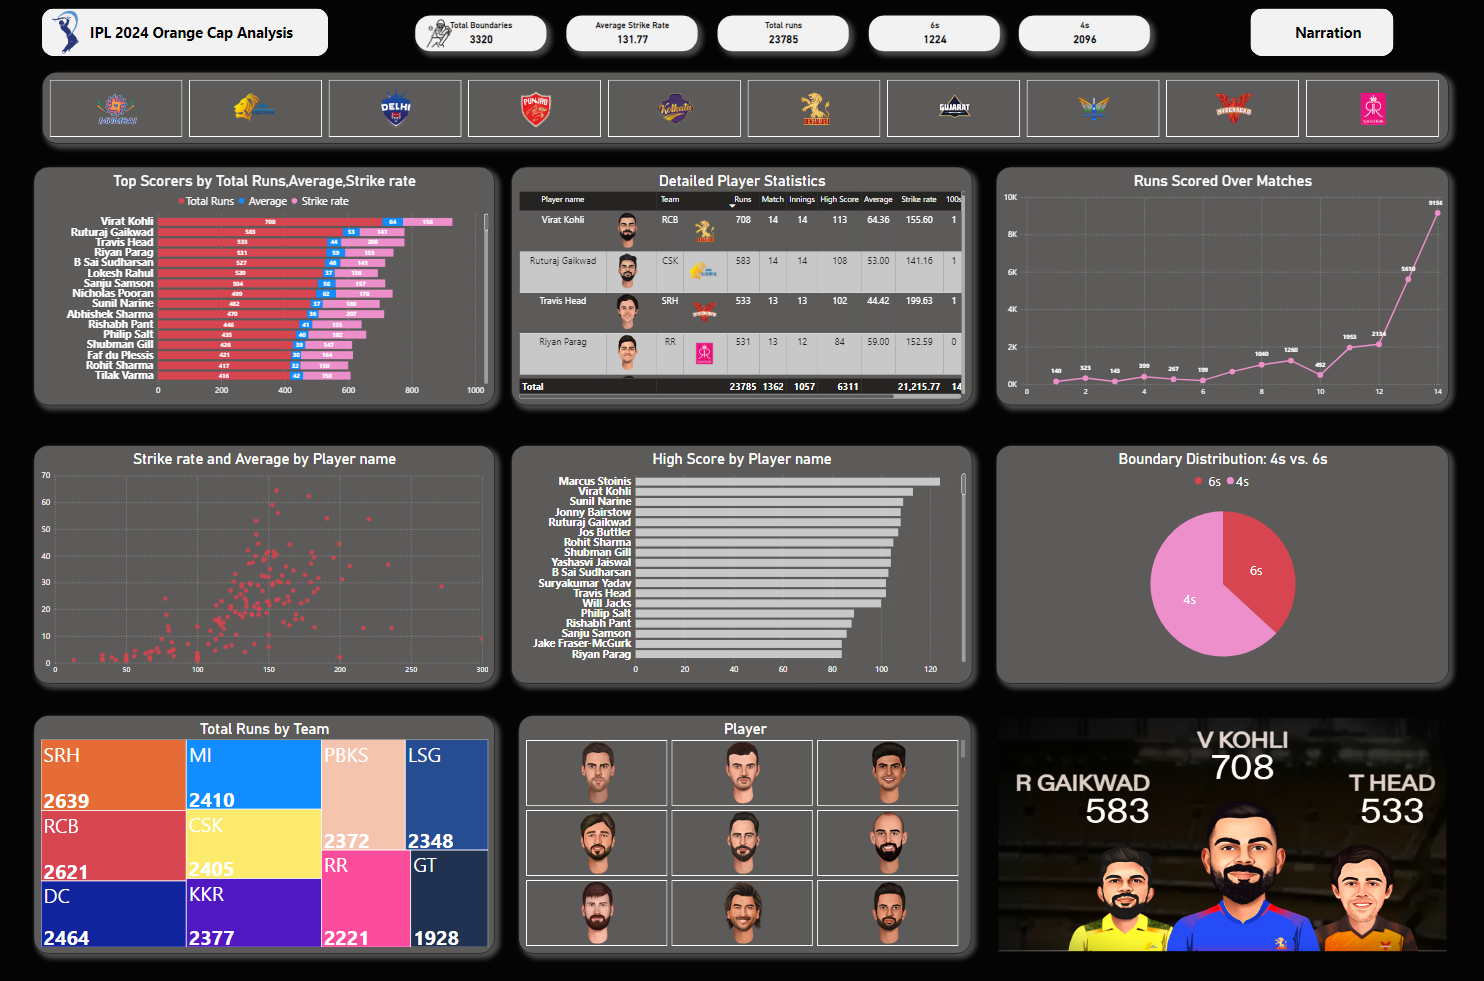

Layout of this report page (visuals, bound fields, positions):
{"tool":"powerbi","page":{"name":"Main","canvas":[3000,2000],"ordinal":0},"visuals":[{"type":"card","title":"Total Boundaries","fields":{"Values":["Table.Total Boundaries"]},"box":[848,32,264,72],"z":0,"group":"g1"},{"type":"card","title":"Average Strike Rate","fields":{"Values":["Table.Average Strike Rate"]},"box":[1152,32,264,72],"z":0},{"type":"shape","box":[96,16,576,96],"z":1000},{"type":"image","box":[848,32,96,72],"z":1000,"group":"g1"},{"type":"image","box":[96,16,96,96],"z":2000},{"type":"tableEx","title":"Detailed Player Statistics","fields":{"Values":["Table.Player name","Table.Player Image","Table.team","Table.Team Logo","Sum(Table.Runs)","Sum(Table.Match)","Sum(Table.Innings)","Sum(Table.High Score)","Table.Average","Sum(Table.Strike rate)","Sum(Table.100s)","Sum(Table.50s)"]},"box":[1040,336,928,480],"z":3000},{"type":"barChart","title":"Top Scorers by Total Runs,Average,Strike rate","fields":{"Category":["Table.Player name"],"Y":["Table.Total Runs","Avg(Table.Average)","Sum(Table.Strike rate)"]},"box":[80,336,928,480],"z":4000},{"type":"lineChart","title":"Runs Scored Over Matches","fields":{"Category":["Table.Match"],"Y":["Sum(Table.Runs)"]},"box":[2016,336,912,480],"z":5000},{"type":"clusteredBarChart","fields":{"Category":["Table.Player name"],"Y":["Sum(Table.High Score)"]},"box":[1040,896,928,480],"z":6000},{"type":"scatterChart","fields":{"X":["Sum(Table.Strike rate)"],"Y":["Sum(Table.Average)"],"Category":["Table.Player name"]},"box":[80,896,928,480],"z":7000},{"type":"pieChart","title":"Boundary Distribution: 4s vs. 6s","fields":{"Y":["Sum(Table.6s)","Sum(Table.4s)"]},"box":[2016,896,912,480],"z":8000},{"type":"treemap","title":"Total Runs by Team","fields":{"Values":["Table.Total Runs"],"Group":["Table.team"]},"box":[80,1440,928,480],"z":9000},{"type":"advancedSlicerVisual","title":"Player","fields":{"Values":["Table.Player Image"]},"box":[1056,1440,912,480],"z":10000},{"type":"advancedSlicerVisual","title":"Player","fields":{"Values":["Table.Team Logo"]},"box":[96,144,2832,144],"z":11000},{"type":"image","box":[2016,1440,912,480],"z":13000},{"type":"card","title":"Total runs","fields":{"Values":["Table.Total Runs"]},"box":[1456,32,264,72],"z":13001},{"type":"card","title":"6s","fields":{"Values":["Sum(Table.6s)"]},"box":[1760,32,264,72],"z":13002},{"type":"card","title":"4s","fields":{"Values":["Sum(Table.4s)"]},"box":[2064,32,264,72],"z":13003},{"type":"group","id":"g1","title":"Group 1","box":[848,32,264,72],"z":13004},{"type":"shape","box":[2528,16,288,96],"z":13005}]}

Visuals, with their boxes in screenshot pixels (x1, y1, x2, y2), scaled from the page's 3000x2000 canvas onto the 1484x981 screenshot:
"Total Boundaries" card: l=419, t=16, r=550, b=51
"Average Strike Rate" card: l=570, t=16, r=700, b=51
shape: l=47, t=8, r=332, b=55
image: l=419, t=16, r=467, b=51
image: l=47, t=8, r=95, b=55
"Detailed Player Statistics" tableEx: l=514, t=165, r=974, b=400
"Top Scorers by Total Runs,Average,Strike rate" barChart: l=40, t=165, r=499, b=400
"Runs Scored Over Matches" lineChart: l=997, t=165, r=1448, b=400
clusteredBarChart - Table.Player name x Sum(Table.High Score): l=514, t=439, r=974, b=675
scatterChart - Sum(Table.Strike rate) x Sum(Table.Average): l=40, t=439, r=499, b=675
"Boundary Distribution: 4s vs. 6s" pieChart: l=997, t=439, r=1448, b=675
"Total Runs by Team" treemap: l=40, t=706, r=499, b=942
"Player" advancedSlicerVisual: l=522, t=706, r=974, b=942
"Player" advancedSlicerVisual: l=47, t=71, r=1448, b=141
image: l=997, t=706, r=1448, b=942
"Total runs" card: l=720, t=16, r=851, b=51
"6s" card: l=871, t=16, r=1001, b=51
"4s" card: l=1021, t=16, r=1152, b=51
"Group 1" group: l=419, t=16, r=550, b=51
shape: l=1251, t=8, r=1393, b=55
